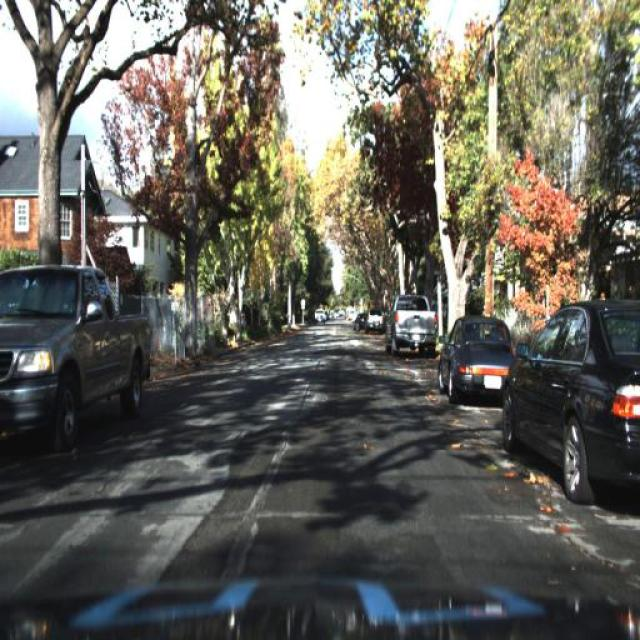car: (0, 260, 155, 450), (504, 293, 638, 493), (432, 305, 508, 417), (438, 310, 522, 400), (385, 291, 439, 364), (385, 293, 434, 352), (363, 304, 385, 337), (352, 310, 367, 330)
